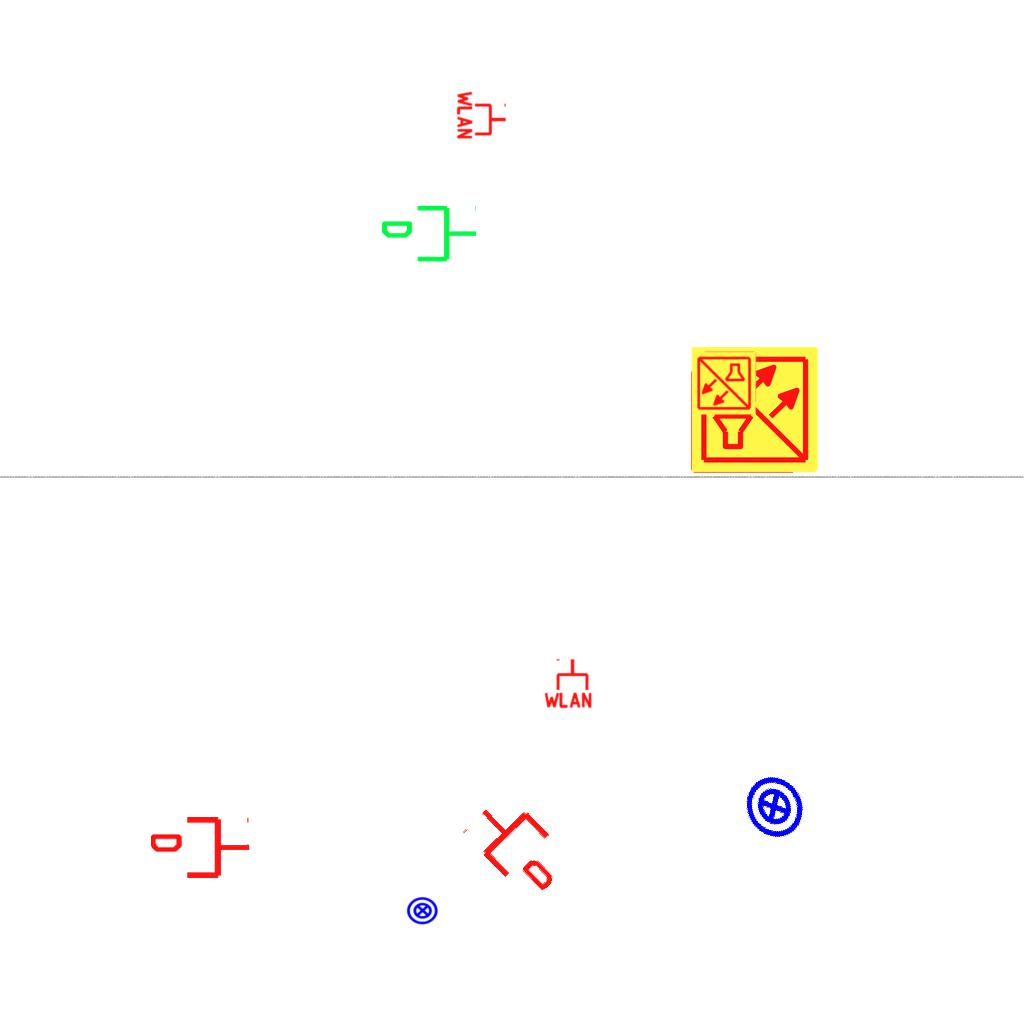Datenanschluss_einfach: (457, 786, 578, 906), (379, 201, 479, 270), (151, 813, 251, 882)
OKW_Multisensormelder_(Kombination_optischer_Rauch-Kahlenmonoxid_Waerme-Melder): (689, 344, 821, 476), (691, 350, 757, 416)
Taster_beleuchtet: (729, 762, 819, 852), (406, 894, 439, 927)
WLAN: (456, 89, 508, 141), (542, 657, 594, 709)
